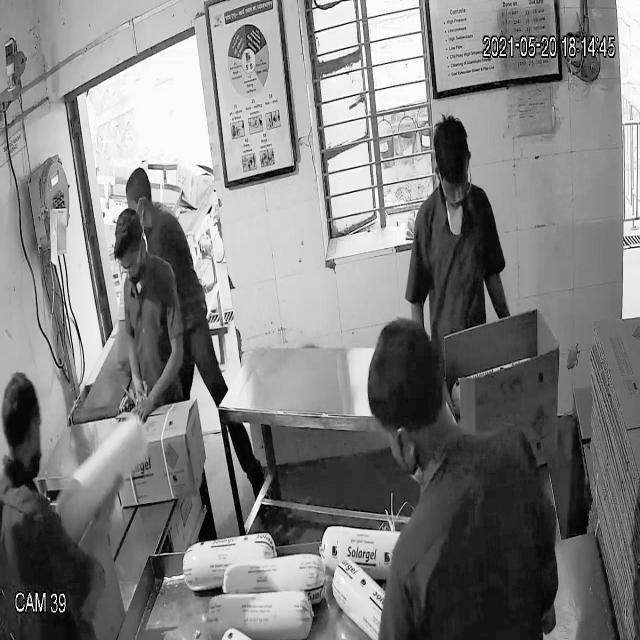glasses: (435, 165, 475, 207)
